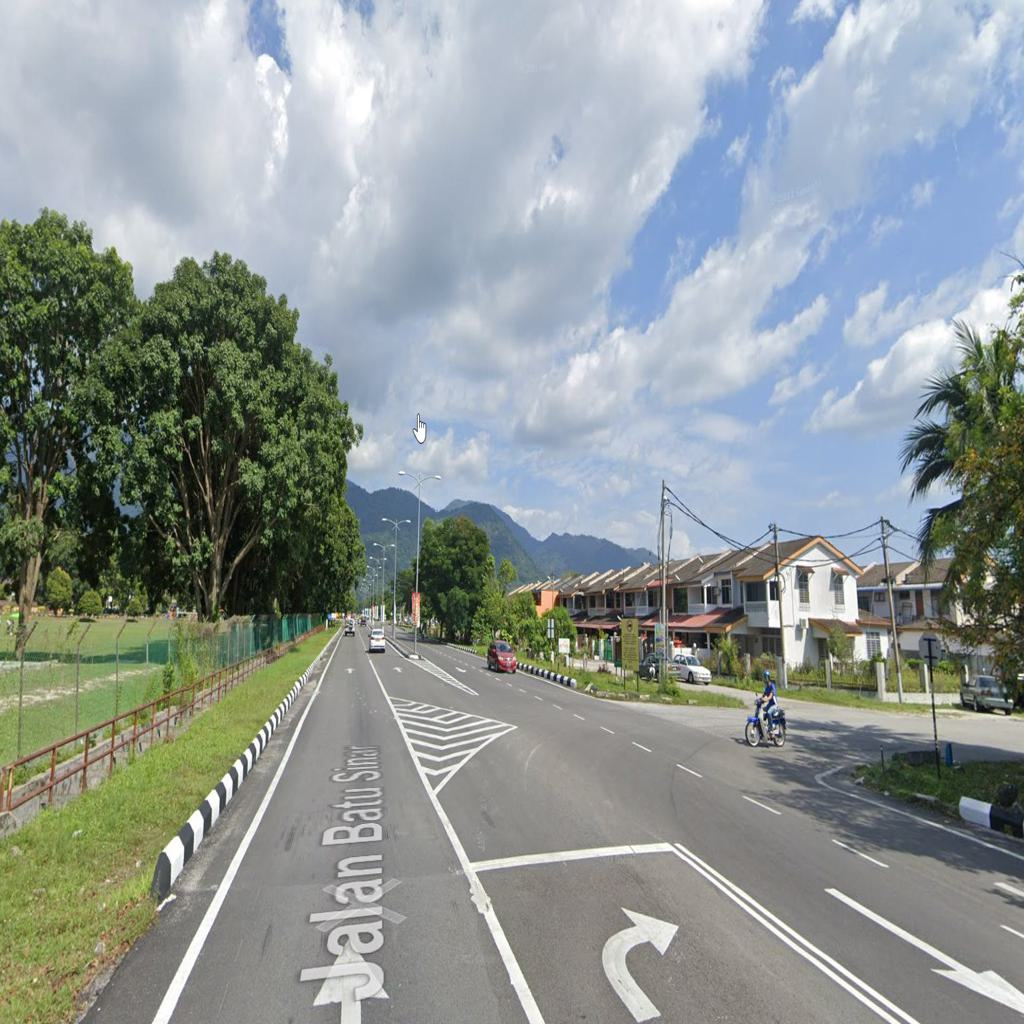Junction: (614, 667, 909, 810)
